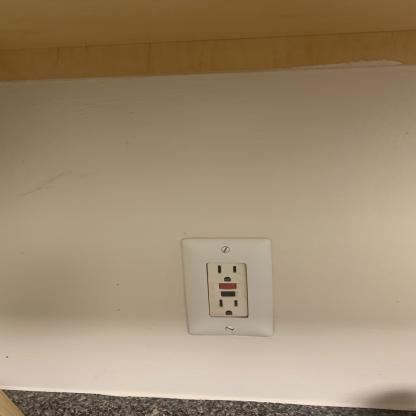OUTLET: (182, 238, 274, 338)
